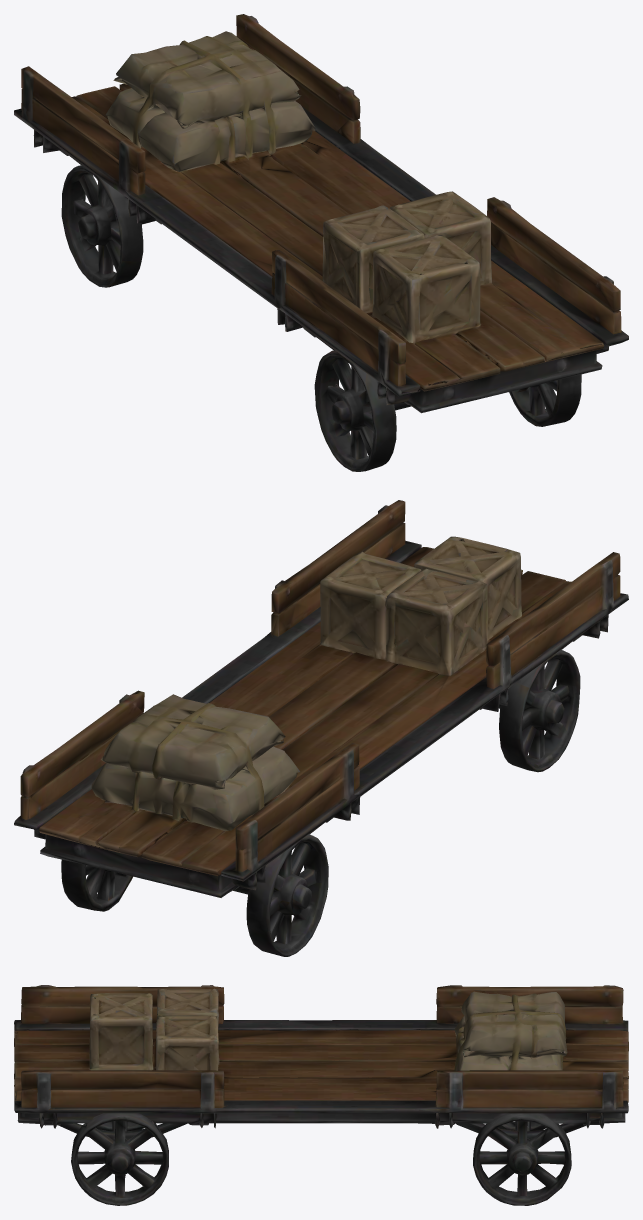
File: carro_plano.movil.glb
3 views of the same model, one above another, from view 1: azimuth 30°, elevation 25°; view 2: azimuth 150°, elevation 25°; view 3: azimuth 270°, elevation 25° (orthographic). The views are drawn at different scales.
Parts seen in each view (by area): view 1: geometry_0; view 2: geometry_0; view 3: geometry_0.
Boxes of the visible parts, x1,y1,x2,y2 form: geometry_0: (14,14,628,471); geometry_0: (14,500,628,956); geometry_0: (14,985,628,1205).
Size of the model in its own units: 0.3468 by 0.2891 by 1.
1 material, 1 textured.
